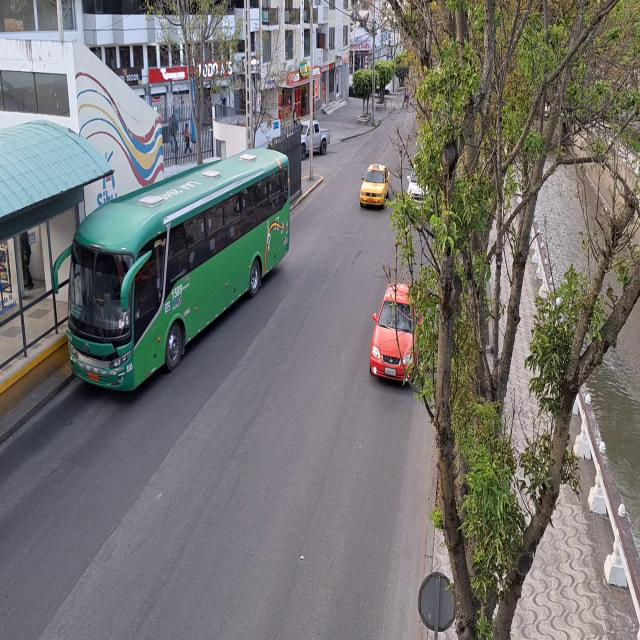BUS: (66, 160, 284, 401)
CMT: (301, 118, 331, 159)
SED: (360, 161, 390, 211)
